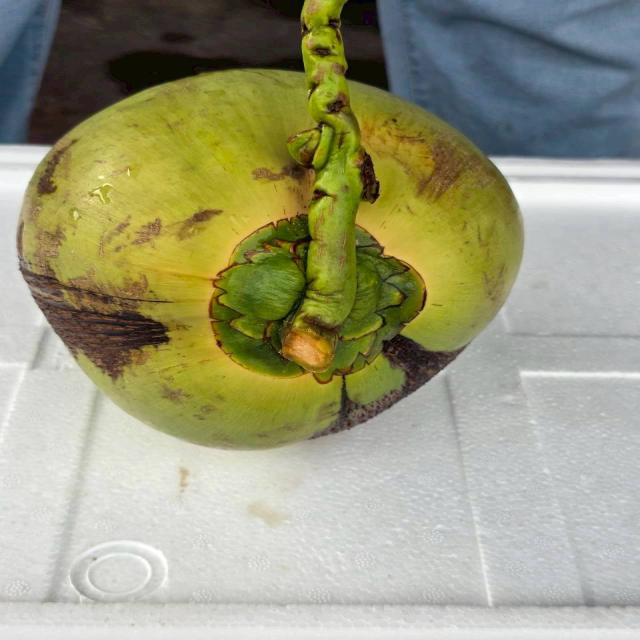coco_1.5: (172, 190, 462, 412)
